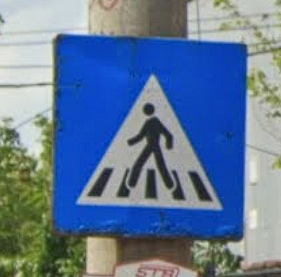trecere_pietoni: (50, 33, 246, 242)
